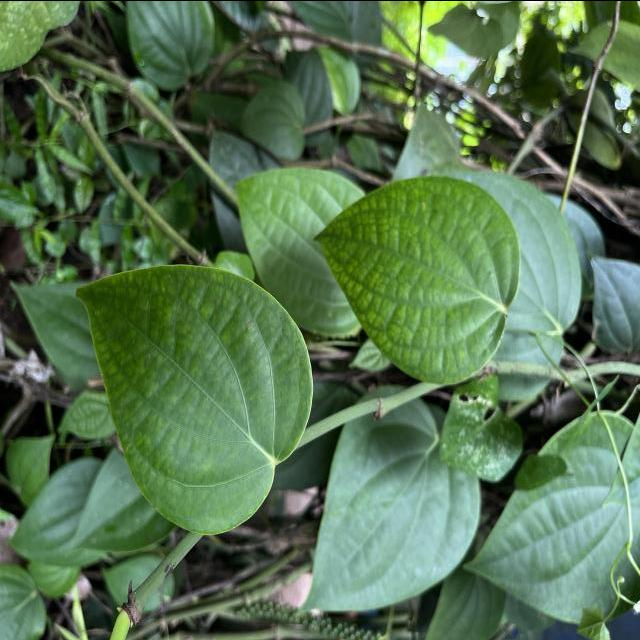Piper nigrum: (72, 262, 316, 537), (310, 172, 521, 386)
